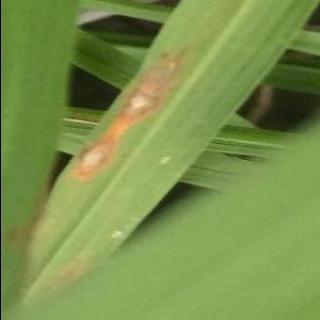Blast: (68, 53, 181, 181)
